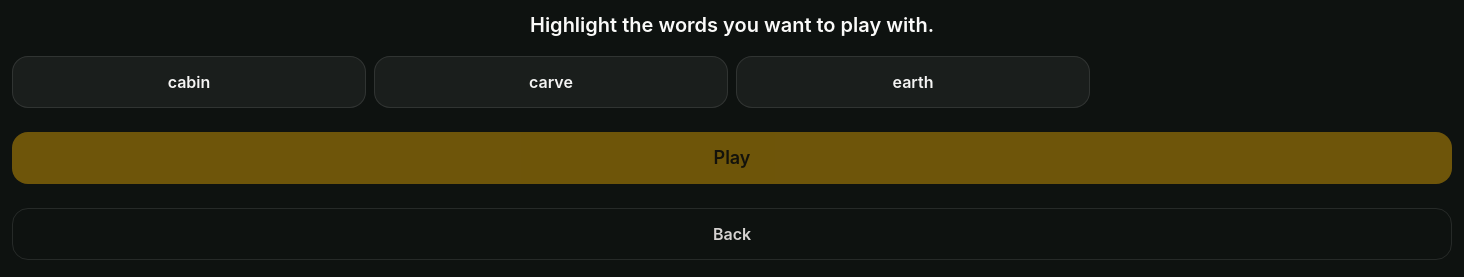
word pick list › disables Play again when the last highlight is cleared
The image size is (1464, 277).
Click the button "cabin".
click(189, 82)  # box [12,56,366,108]
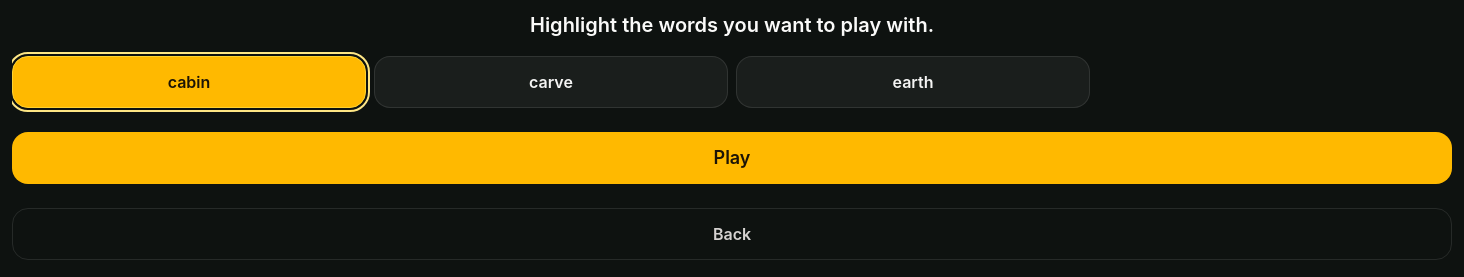
Click the button "cabin".
click(189, 82)  # box [12,56,366,108]
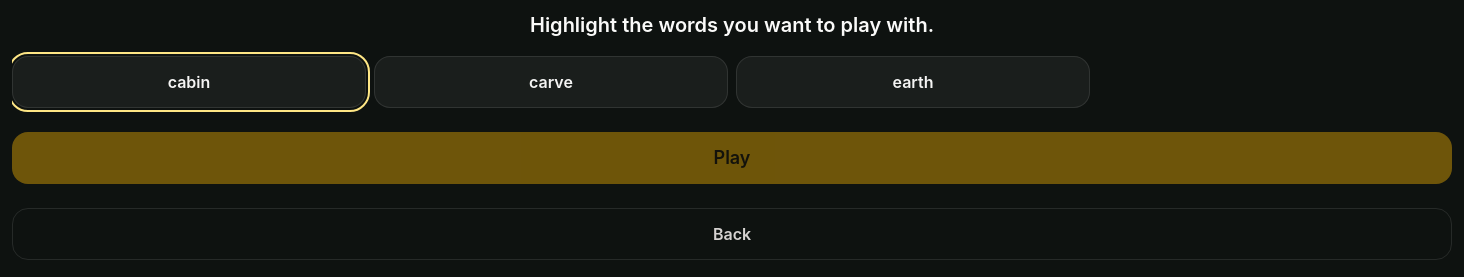
Expected: the button "Play" is disabled, [12,132,1452,184]
